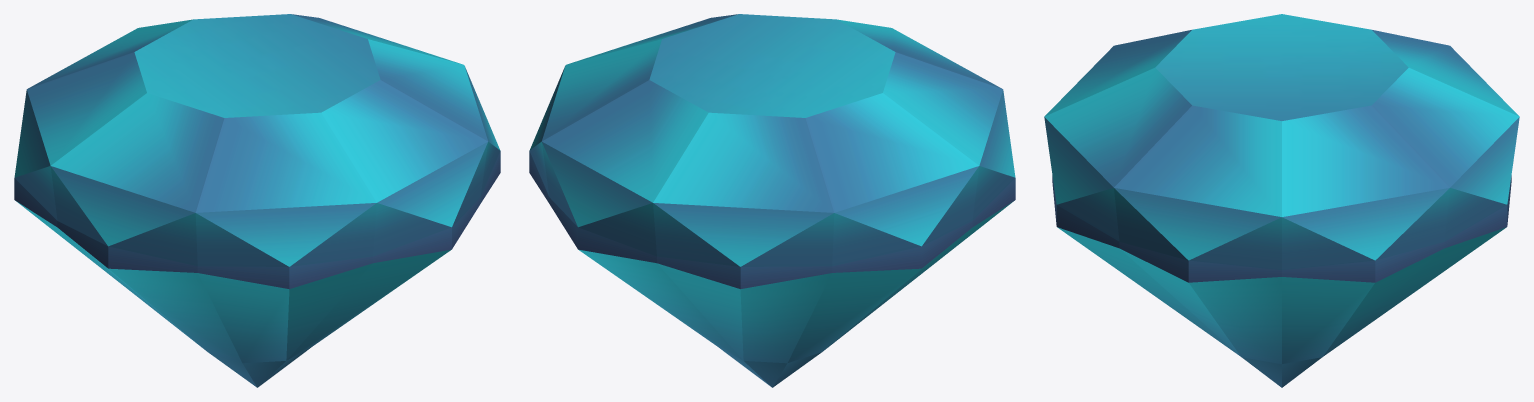
The model's file is diamond.fbx.
3 renders of one model, left to right at view 1: azimuth 30°, elevation 25°; view 2: azimuth 150°, elevation 25°; view 3: azimuth 270°, elevation 25°, orthographic.
Parts seen in each view (by area): view 1: Cylinder; view 2: Cylinder; view 3: Cylinder.
Part boxes in pixels (x1,y1,x2,y2): Cylinder: [14, 14, 500, 387]; Cylinder: [529, 14, 1015, 387]; Cylinder: [1044, 14, 1519, 387].
Bounding box in the file's own units: 1.5 × 1.12 × 1.5.
1 material, 1 textured.
